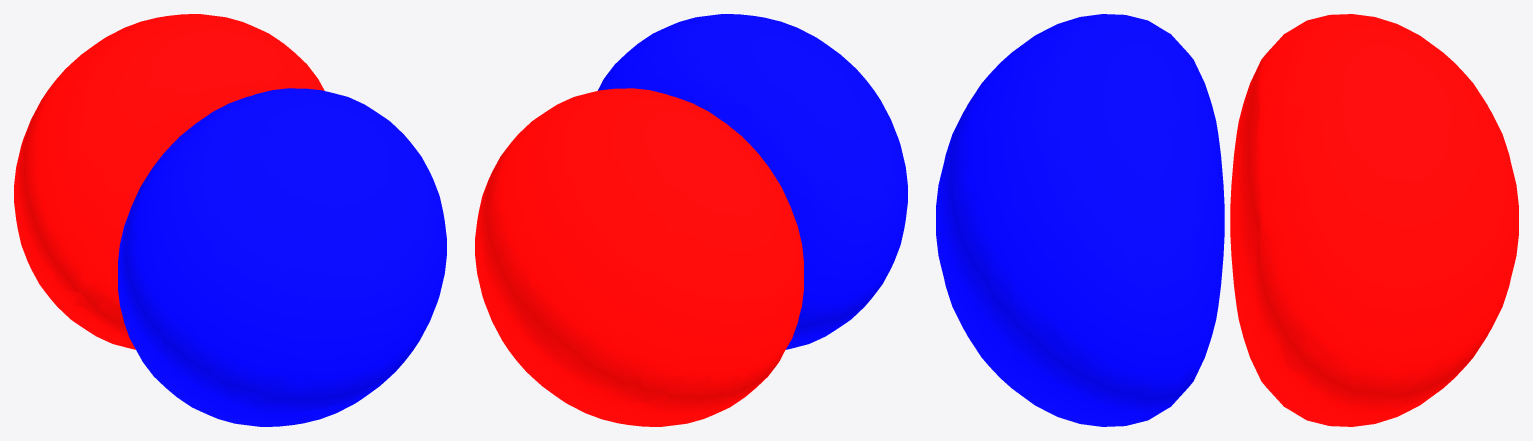
The model's file is orbital_n2_l1_m-1_real_signed.fbx.
The picture shows the model from 3 angles, left to right: view 1: azimuth 30°, elevation 25°; view 2: azimuth 150°, elevation 25°; view 3: azimuth 270°, elevation 25°; orthographic projection. The views are drawn at different scales.
Parts seen in each view (by area): view 1: orbital_n2_l1_m-1_real_signed; view 2: orbital_n2_l1_m-1_real_signed; view 3: orbital_n2_l1_m-1_real_signed.
Part boxes in pixels (<box>): orbital_n2_l1_m-1_real_signed: <box>14,14,446,426</box>; orbital_n2_l1_m-1_real_signed: <box>475,14,907,426</box>; orbital_n2_l1_m-1_real_signed: <box>936,14,1518,426</box>.
Size of the model in its own units: 1404 by 1404 by 1976.
